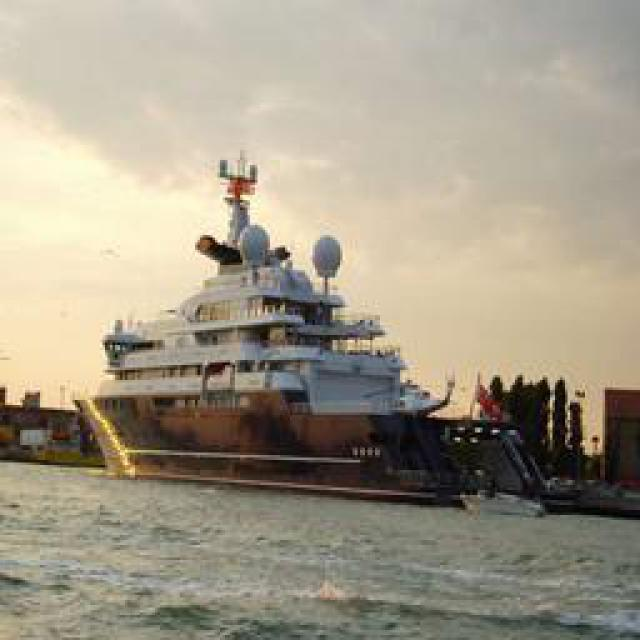Ship: (82, 153, 485, 491)
